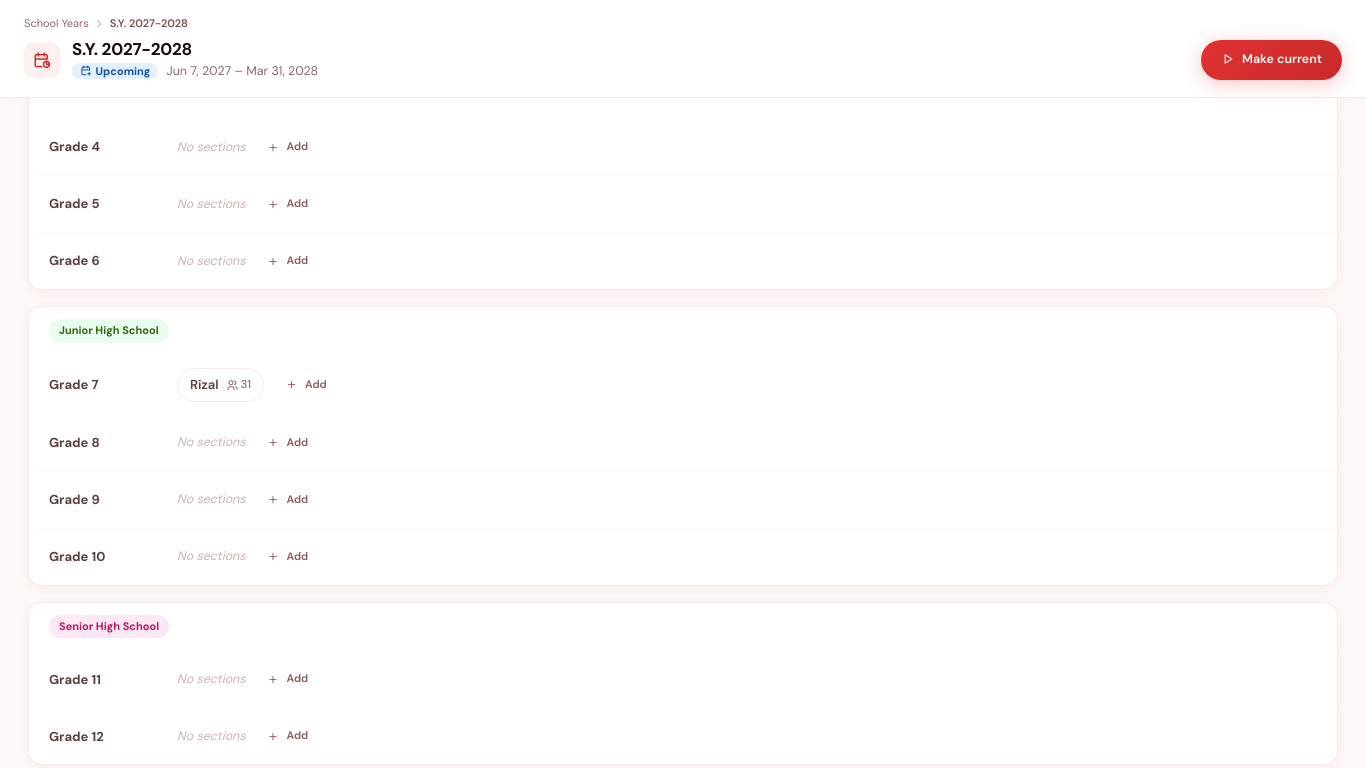
Scenario: SchoolYearDetailPage — sections › won't remove a section that still has learners
(page scrolled)
Click the button with aria-label "Grade 7 Rizal": (220, 385) [177, 368, 264, 402]
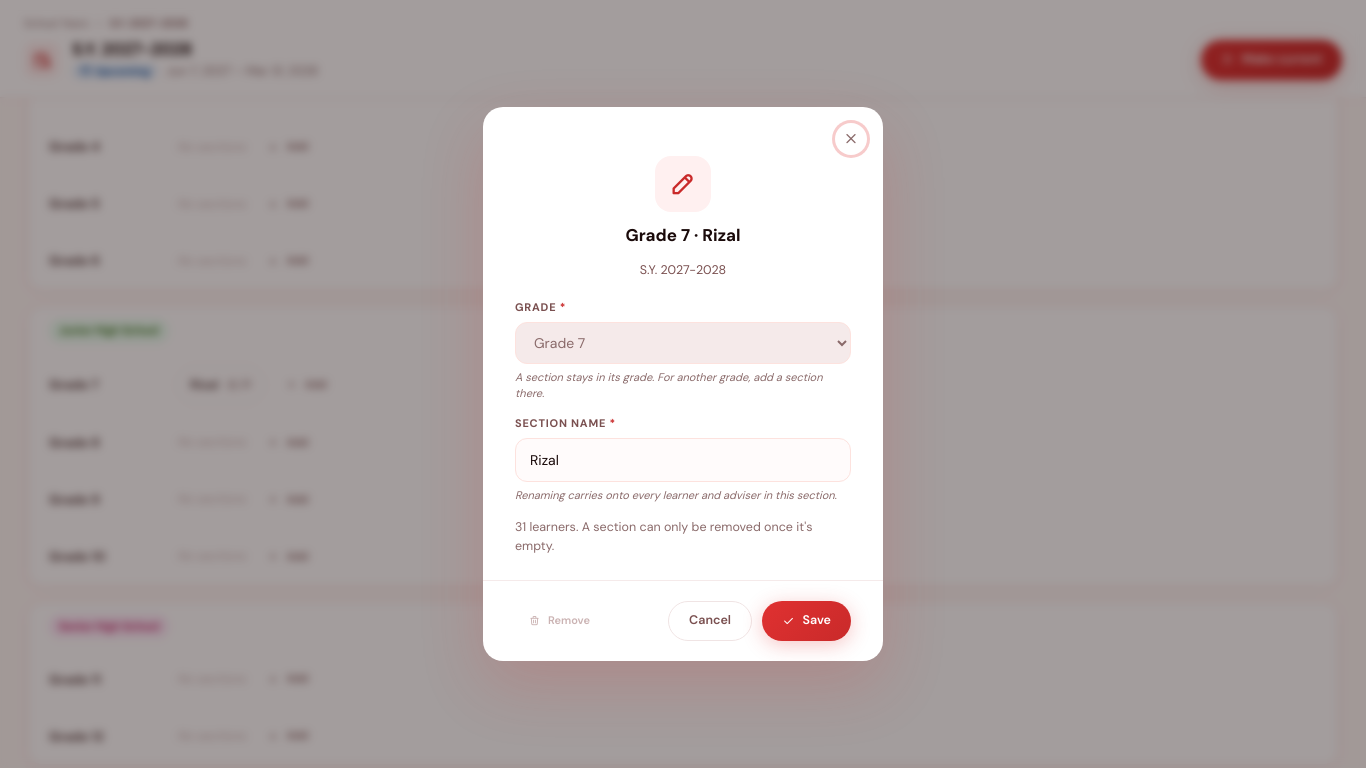
Expected: the button "Remove" is disabled, [515, 605, 604, 637]
Expected: the text "31 learners. A section can only be removed once it's empty." is shown, [515, 518, 851, 556]
